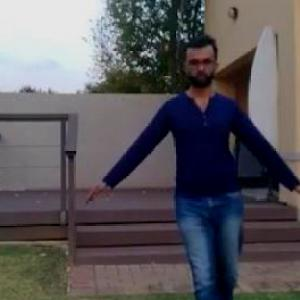land: (108, 37, 299, 299)
